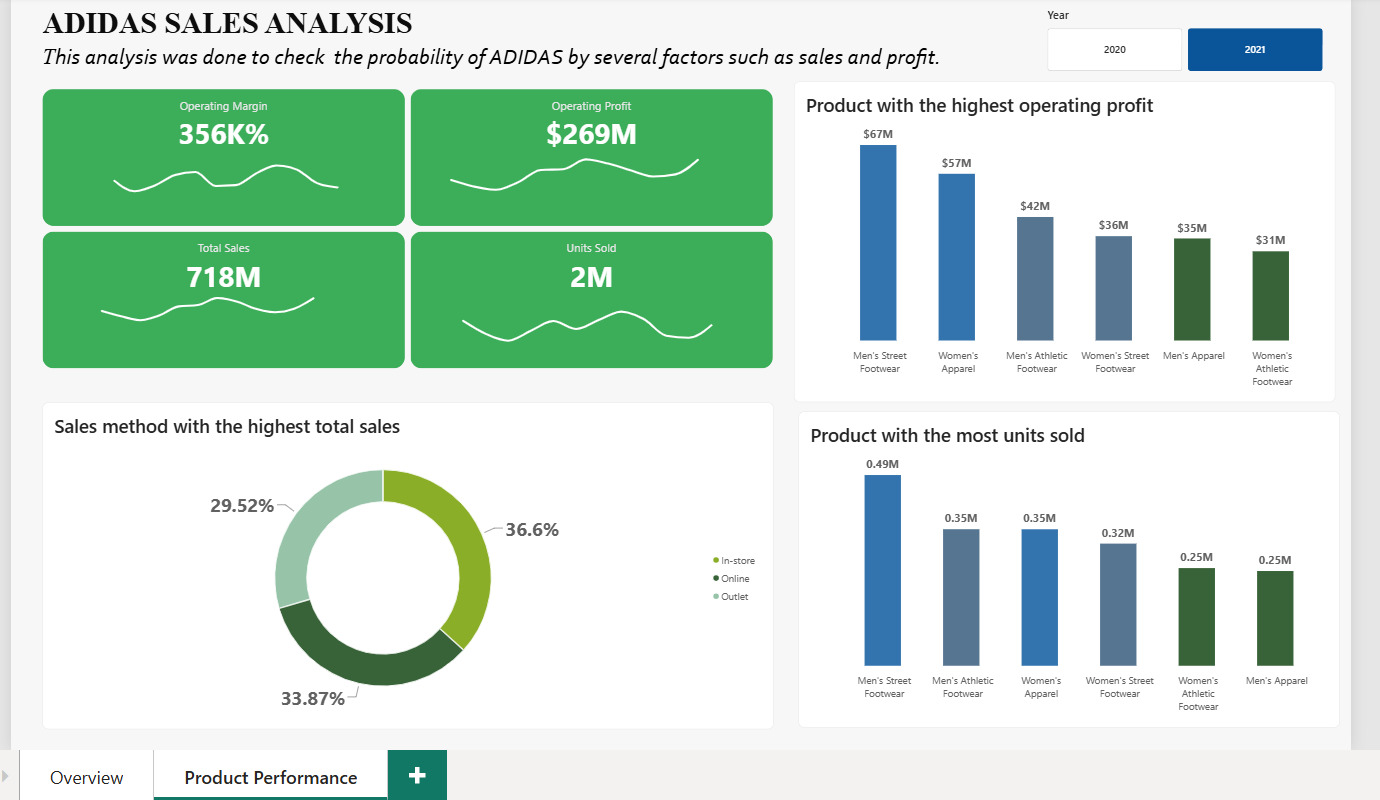

What the dashboard file says about the page in this screenshot:
{"tool":"powerbi","page":{"name":"Product Performance","canvas":[1920,1080],"ordinal":1},"visuals":[{"type":"clusteredColumnChart","title":"Product with the most units sold","fields":{"Category":["Data Sales Adidas.Product"],"Y":["Sum(Data Sales Adidas.Units Sold)"]},"box":[1127.9,595.8,775.4,452.5],"z":0},{"type":"donutChart","title":"Sales method with the highest total  sales","fields":{"Category":["Data Sales Adidas.Sales Method"],"Y":["Sum(Data Sales Adidas.Total Sales)"]},"box":[45.4,581.5,1047.1,467.9],"z":1000},{"type":"columnChart","title":"Product with the highest operating  profit","fields":{"Category":["Data Sales Adidas.Product"],"Y":["Sum(Data Sales Adidas.Operating Profit)"]},"box":[1121.1,122.8,775.4,459.3],"z":2000},{"type":"textbox","box":[45.4,15.9,1053.7,99.2],"z":3000},{"type":"textbox","box":[45.4,65.9,1298.5,52.3],"z":4000},{"type":"advancedSlicerVisual","fields":{"Values":["Data Sales Adidas.Invoice Date.Variation.Date Hierarchy.Year"]},"box":[1485.4,15.9,395.2,93.1],"z":5000},{"type":"cardVisual","fields":{"Data":["Sum(Data Sales Adidas.Operating Margin)","Sum(Data Sales Adidas.Operating Profit)","Sum(Data Sales Adidas.Total Sales)","Sum(Data Sales Adidas.Units Sold)"]},"box":[45.4,118.1,1047.1,415.6],"z":6000},{"type":"lineChart","fields":{"Category":["Data Sales Adidas.Invoice Date.Variation.Date Hierarchy.Month"],"Y":["Sum(Data Sales Adidas.Operating Margin)"]},"box":[120.4,209,374.8,97.7],"z":7000},{"type":"lineChart","fields":{"Category":["Data Sales Adidas.Invoice Date.Variation.Date Hierarchy.Month"],"Y":["Sum(Data Sales Adidas.Operating Profit)"]},"box":[601.9,209,411.1,99.9],"z":8000},{"type":"lineChart","fields":{"Category":["Data Sales Adidas.Invoice Date.Variation.Date Hierarchy.Month"],"Y":["Sum(Data Sales Adidas.Total Sales)"]},"box":[102.2,408.8,357,88.7],"z":9000},{"type":"lineChart","fields":{"Category":["Data Sales Adidas.Invoice Date.Variation.Date Hierarchy.Month"],"Y":["Sum(Data Sales Adidas.Units Sold)"]},"box":[617.8,424.7,413.4,88.6],"z":10000}]}

Visuals, with their boxes on the page's 1920x1080 design canvas (x1, y1, x2, y2). These are canvas units, not pixel positions in the 1380x800 screenshot, which may show the page scaled, cropped or inside an application window:
"Product with the most units sold" clusteredColumnChart: [left=1128, top=596, right=1903, bottom=1048]
"Sales method with the highest total  sales" donutChart: [left=45, top=582, right=1092, bottom=1049]
"Product with the highest operating  profit" columnChart: [left=1121, top=123, right=1896, bottom=582]
textbox: [left=45, top=16, right=1099, bottom=115]
textbox: [left=45, top=66, right=1344, bottom=118]
advancedSlicerVisual - Data Sales Adidas.Invoice Date.Variation.Date Hierarchy.Year: [left=1485, top=16, right=1881, bottom=109]
cardVisual - Sum(Data Sales Adidas.Operating Margin) x Sum(Data Sales Adidas.Operating Profit): [left=45, top=118, right=1092, bottom=534]
lineChart - Data Sales Adidas.Invoice Date.Variation.Date Hierarchy.Month x Sum(Data Sales Adidas.Operating Margin): [left=120, top=209, right=495, bottom=307]
lineChart - Data Sales Adidas.Invoice Date.Variation.Date Hierarchy.Month x Sum(Data Sales Adidas.Operating Profit): [left=602, top=209, right=1013, bottom=309]
lineChart - Data Sales Adidas.Invoice Date.Variation.Date Hierarchy.Month x Sum(Data Sales Adidas.Total Sales): [left=102, top=409, right=459, bottom=498]
lineChart - Data Sales Adidas.Invoice Date.Variation.Date Hierarchy.Month x Sum(Data Sales Adidas.Units Sold): [left=618, top=425, right=1031, bottom=513]
